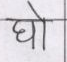e_matra: (28, 2, 44, 19)
